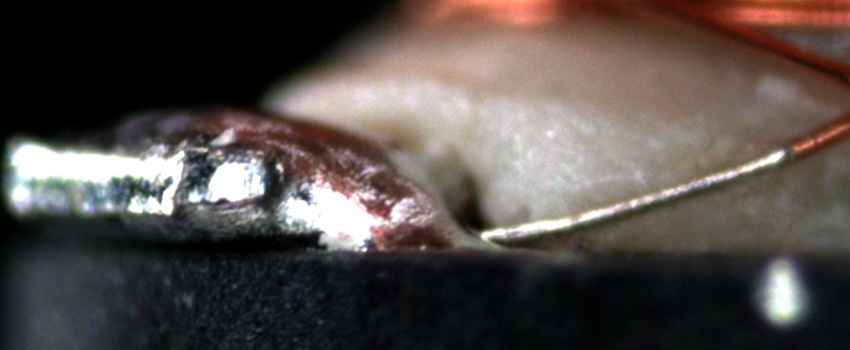TS: (483, 145, 795, 241)
